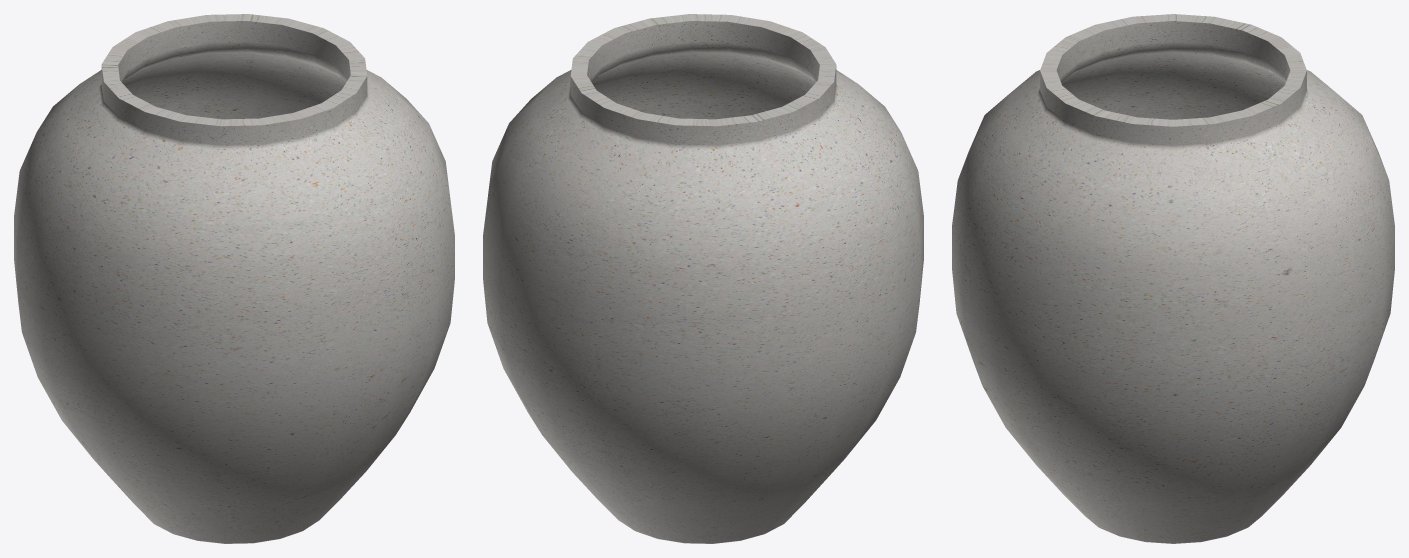
File: taoci4.FBX
3 views of the same model, side by side, from view 1: azimuth 30°, elevation 25°; view 2: azimuth 150°, elevation 25°; view 3: azimuth 270°, elevation 25° (orthographic).
Parts seen in each view (by area): view 1: 1; view 2: 1; view 3: 1.
Boxes of the visible parts, <box> form: 1: <box>14,14,454,543</box>; 1: <box>483,14,923,543</box>; 1: <box>952,14,1394,543</box>.
Size of the model in its own units: 1.63 by 1.77 by 1.63.
